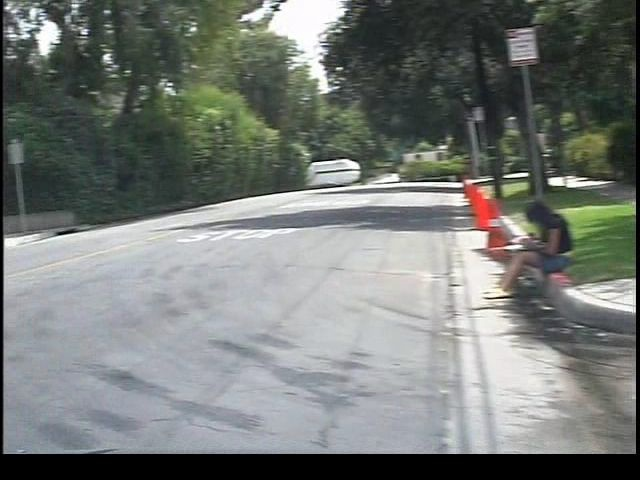person: (461, 194, 559, 302)
